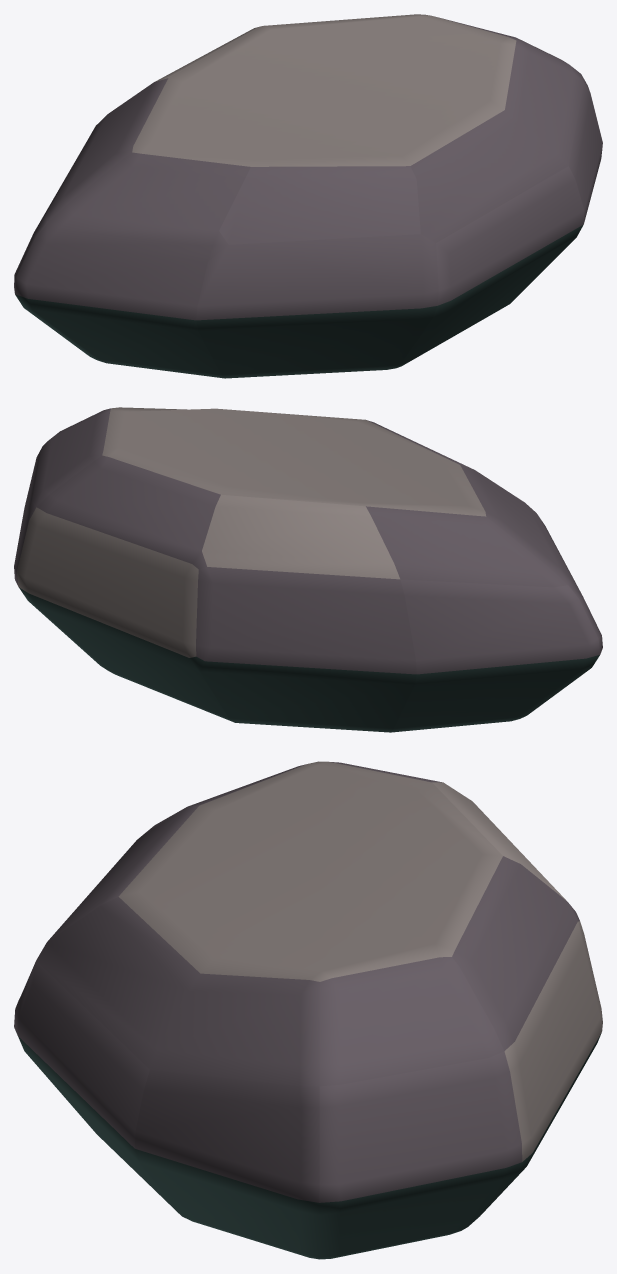
The model's file is rock-slab-v4.glb.
The picture shows the model from 3 angles, top to bottom: view 1: azimuth 30°, elevation 25°; view 2: azimuth 150°, elevation 25°; view 3: azimuth 270°, elevation 25°; orthographic projection. The views are drawn at different scales.
Parts seen in each view (by area): view 1: Rock slab; view 2: Rock slab; view 3: Rock slab.
Part boxes in pixels (x1,y1,x2,y2): Rock slab: (14, 14, 602, 378); Rock slab: (14, 407, 602, 732); Rock slab: (14, 761, 602, 1259).
Bounding box in the file's own units: 2.99 × 1.13 × 2.01.
